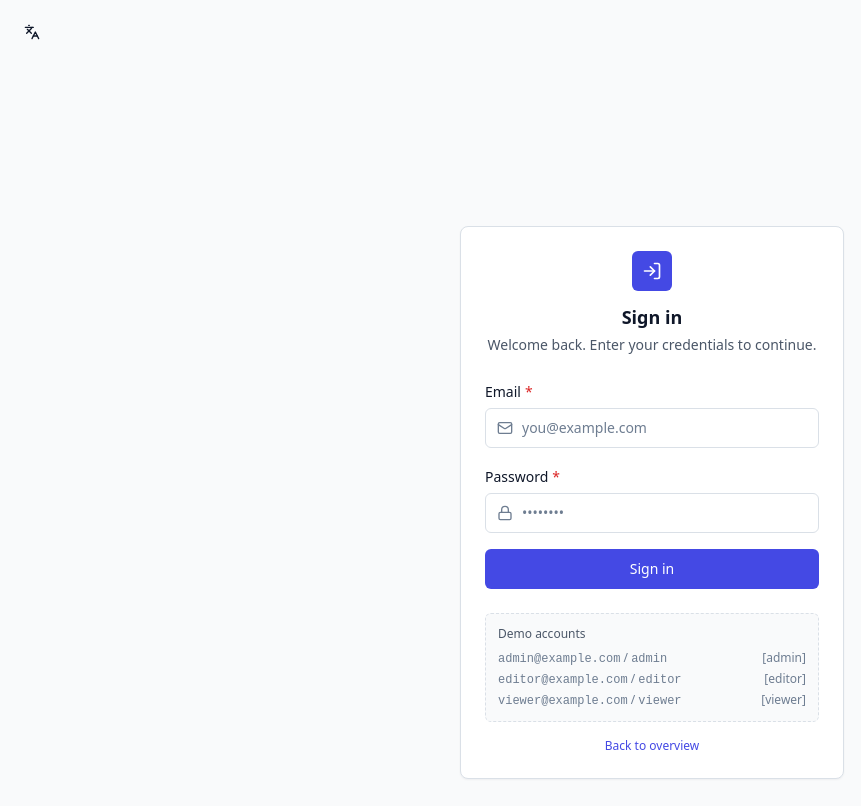
Test: i18n › switches rendered text in the login form when locale changes
The image size is (861, 806).
Expected: the heading reads "Sign in", [622,304,682,328]
Click the button named "change language" at (32, 32), box [12,12,52,52]
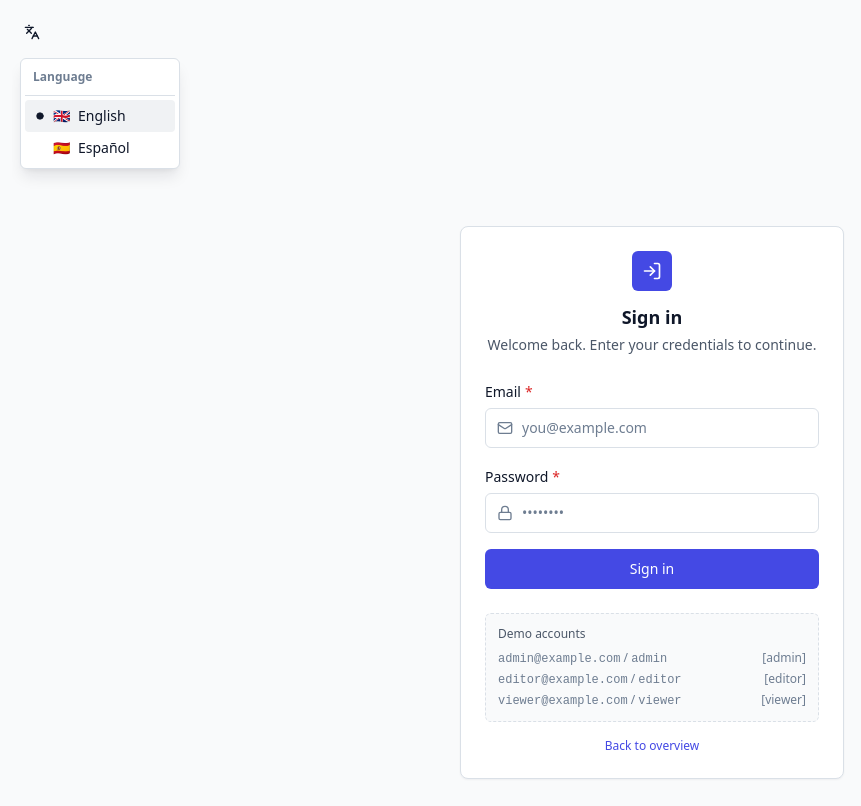
Click the menu item "🇪🇸 Español" at (91, 148), box [53,138,130,157]
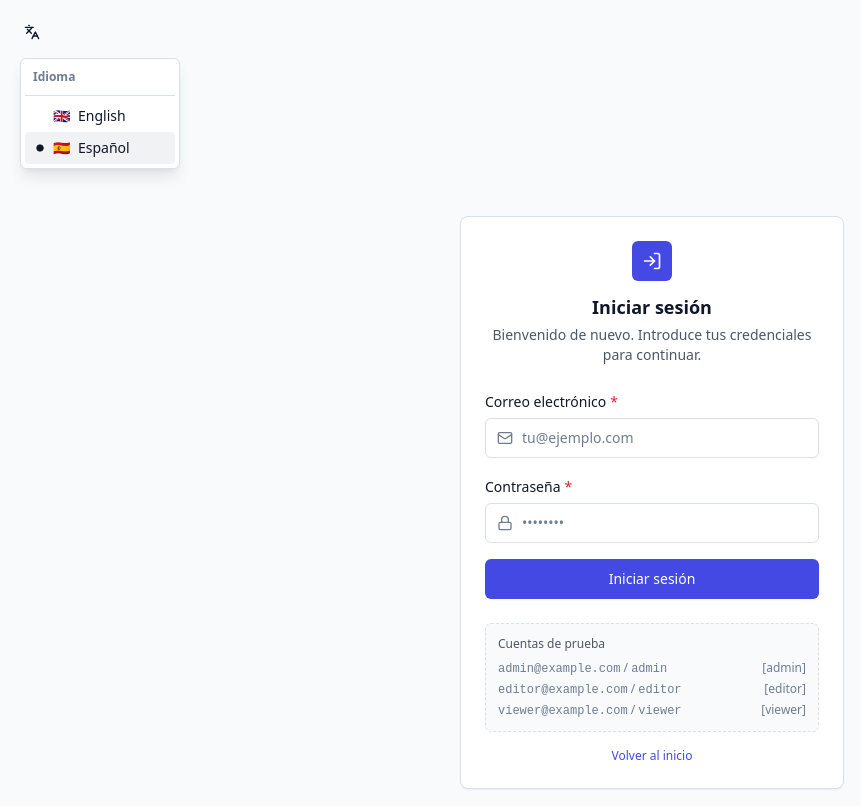
Expected: the field labelled "Correo electrónico *" is shown, [485,418,819,458]
Expected: the heading reads "Iniciar sesión", [592,294,712,318]
